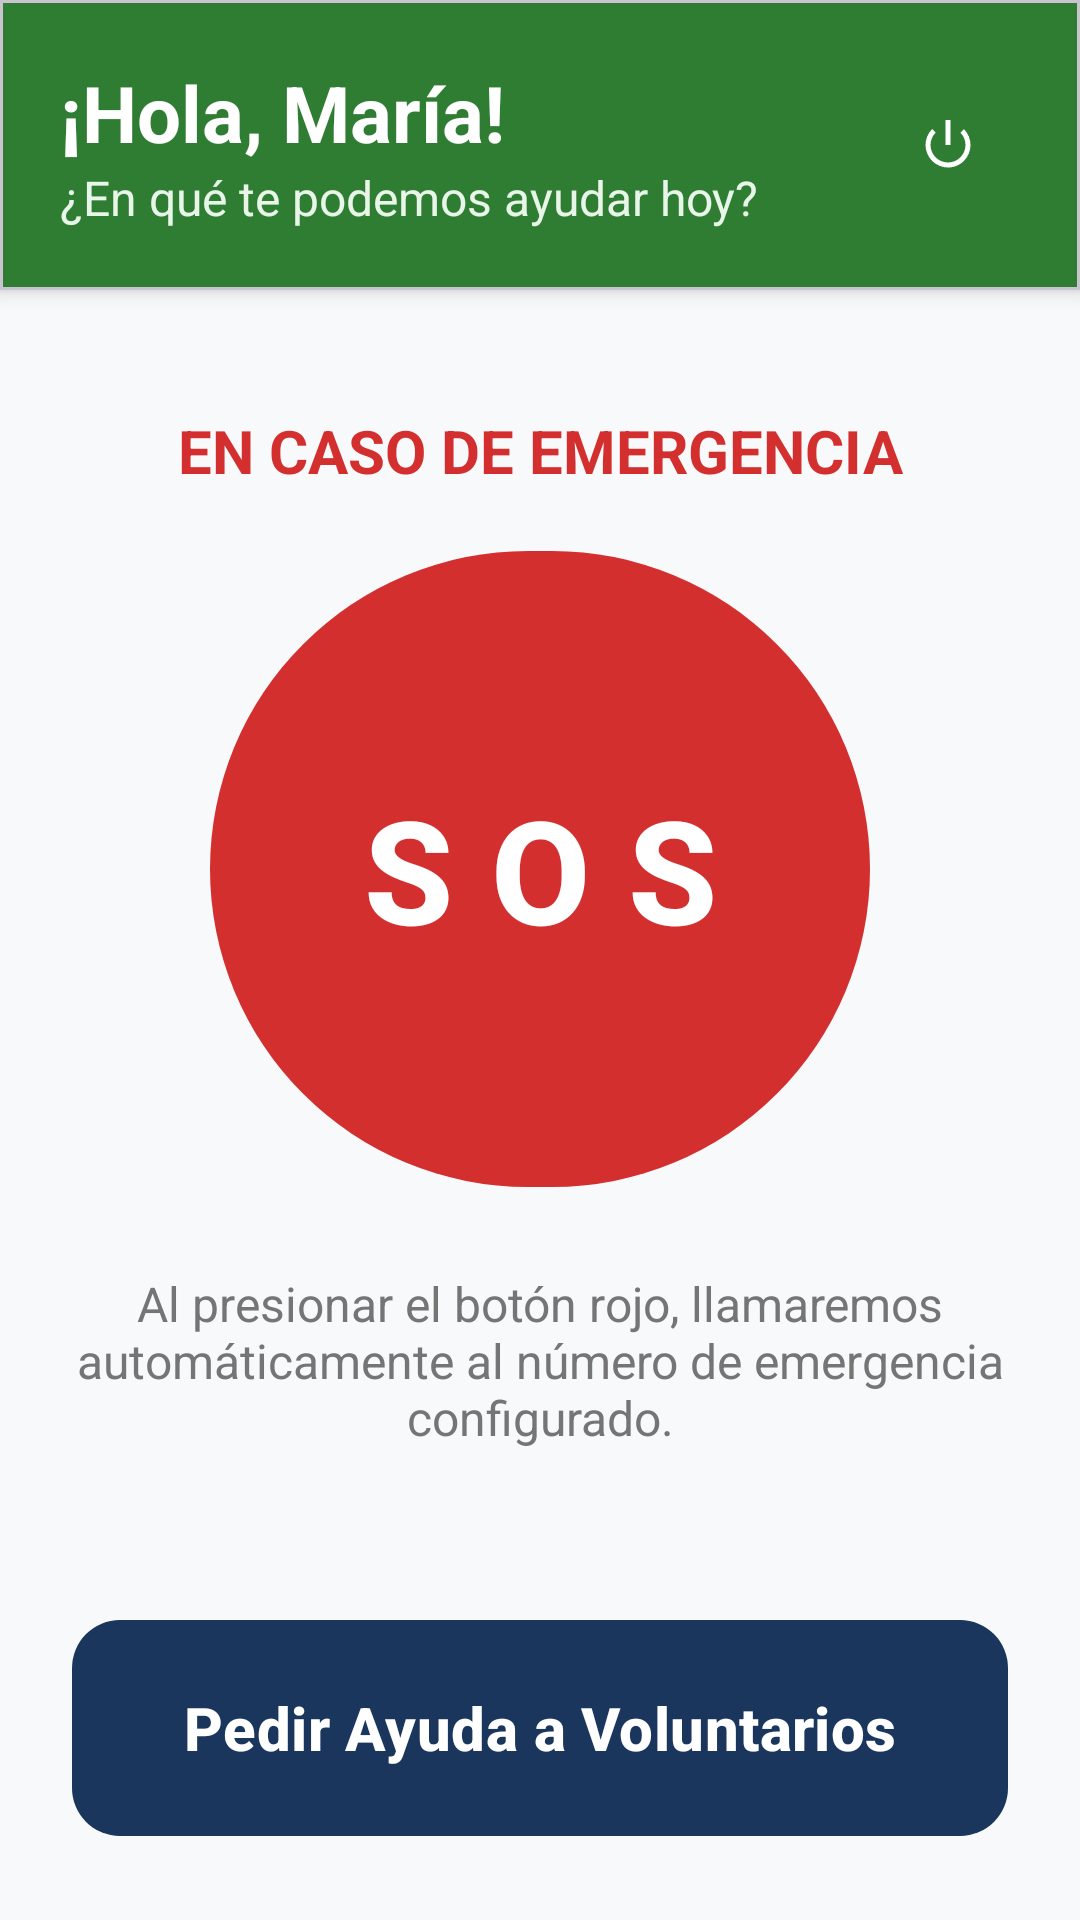

Locate icon controls on the screen. Image size 1080px x 1920px, boxes as (x1, y1, x2, y2).
lock power off: (925, 120, 971, 168)
